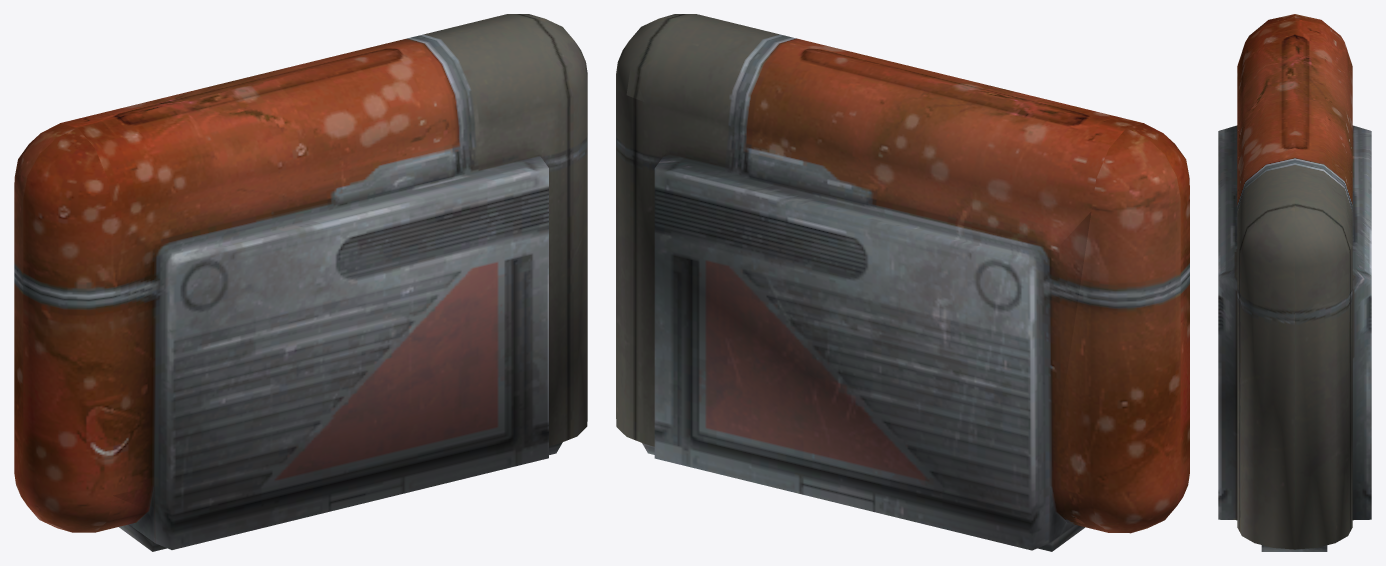
The model's file is canistersludge01.FBX.
3 views of the same model, side by side, from view 1: azimuth 30°, elevation 25°; view 2: azimuth 150°, elevation 25°; view 3: azimuth 270°, elevation 25° (orthographic). The views are drawn at different scales.
Parts seen in each view (by area): view 1: canistersludge01; view 2: canistersludge01; view 3: canistersludge01.
Part boxes in pixels (x1,y1,x2,y2): canistersludge01: [14, 14, 587, 551]; canistersludge01: [616, 14, 1189, 551]; canistersludge01: [1218, 14, 1371, 551].
Size of the model in its own units: 0.8262 by 0.6007 by 0.2389.
